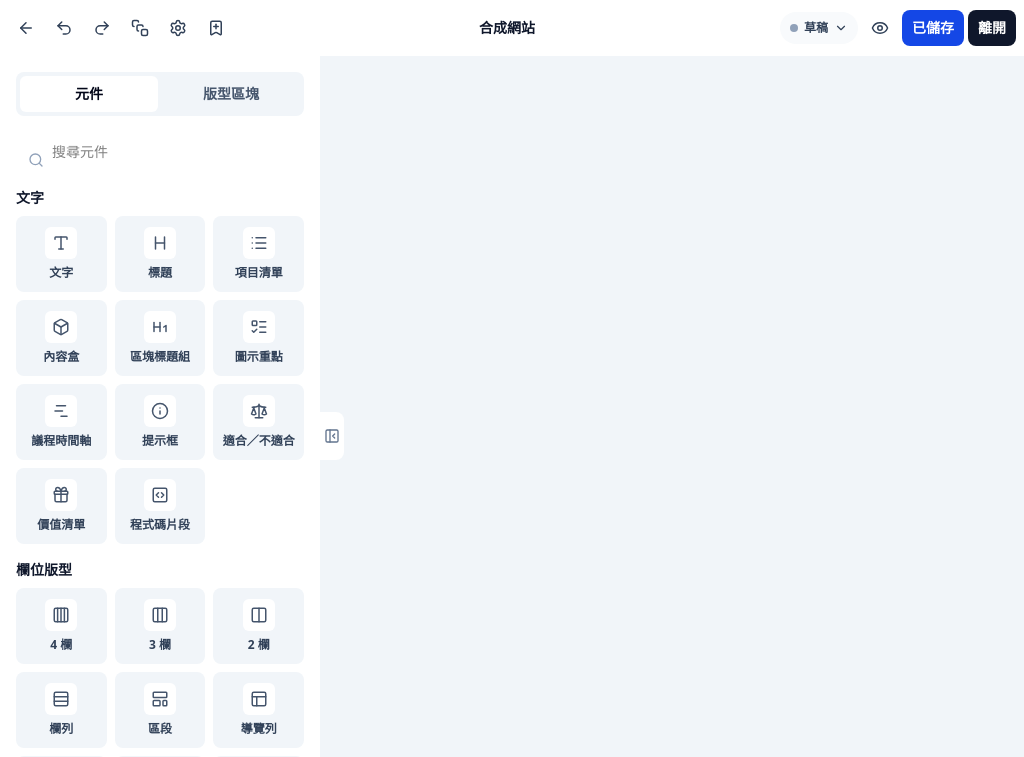
leaving with unsaved changes › closes on Escape and keeps Tab focus inside the dialog
Click the button "區段". click: (160, 710)
box: x1=115 y1=672 x2=205 y2=748
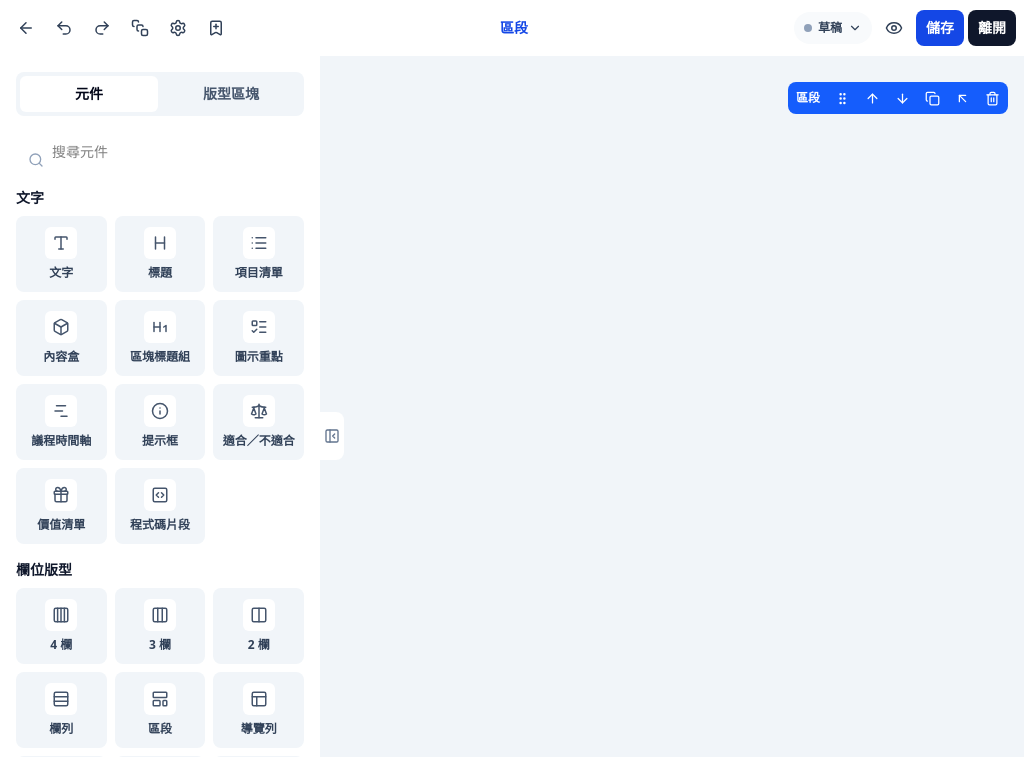
Click the button named "返回管理頁". click: (26, 28)
box: x1=8 y1=10 x2=44 y2=46
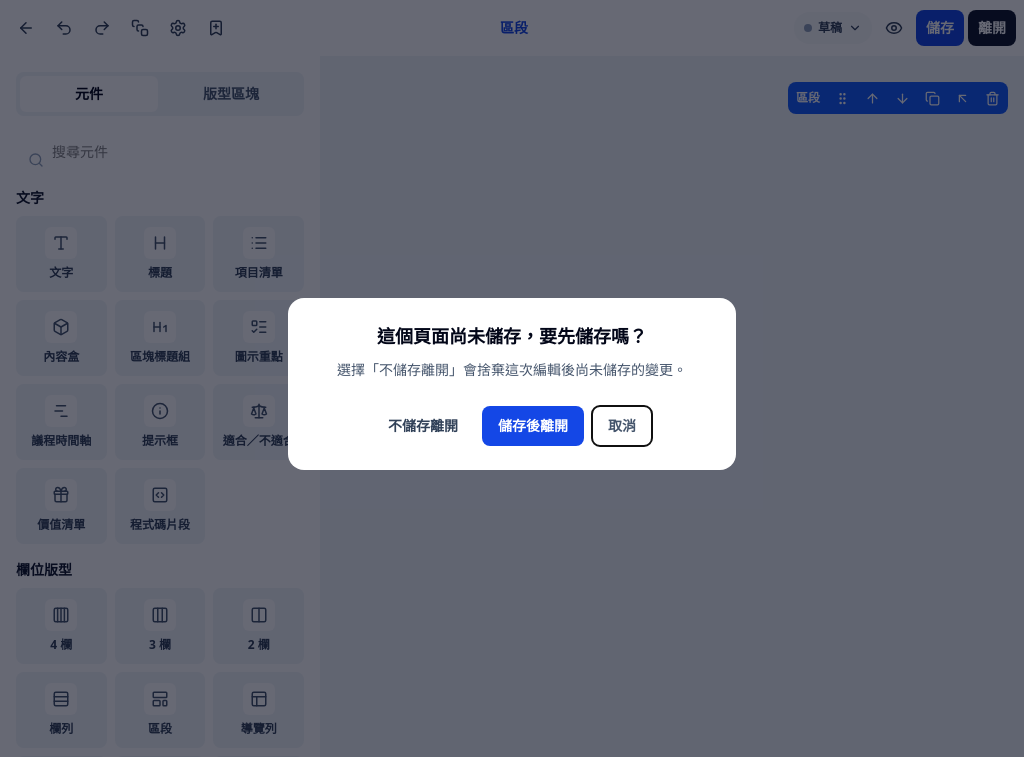
Press Tab in the button "取消", box x1=592 y1=406 x2=652 y2=446
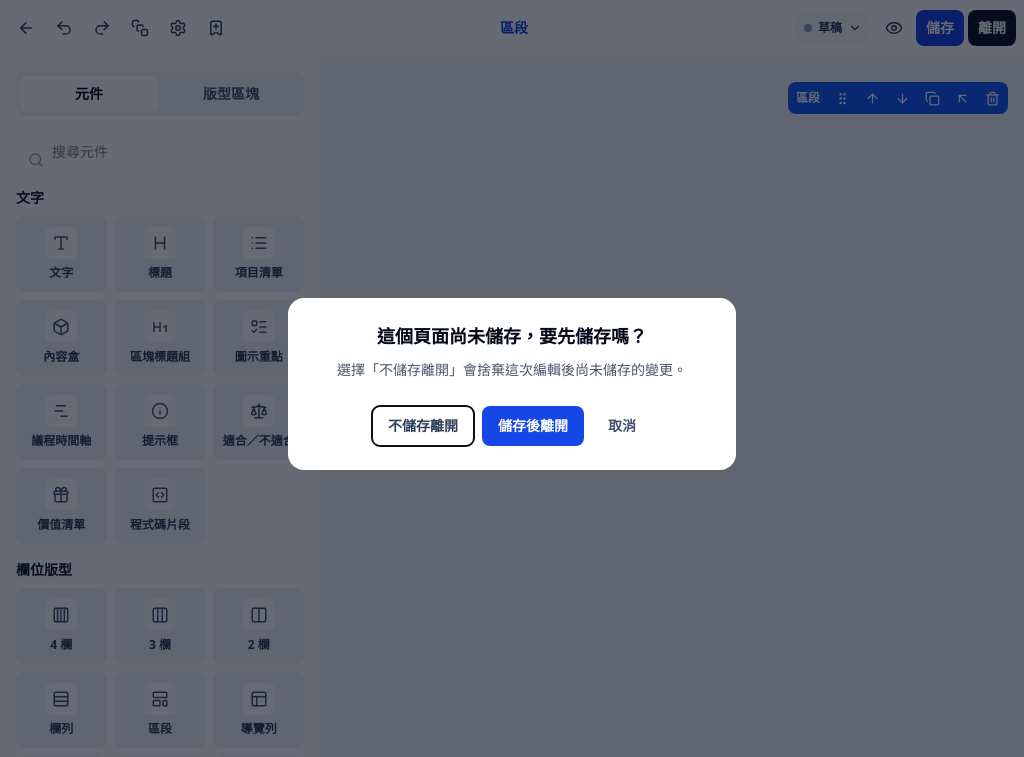
Press Tab in the button "不儲存離開", box x1=372 y1=406 x2=474 y2=446
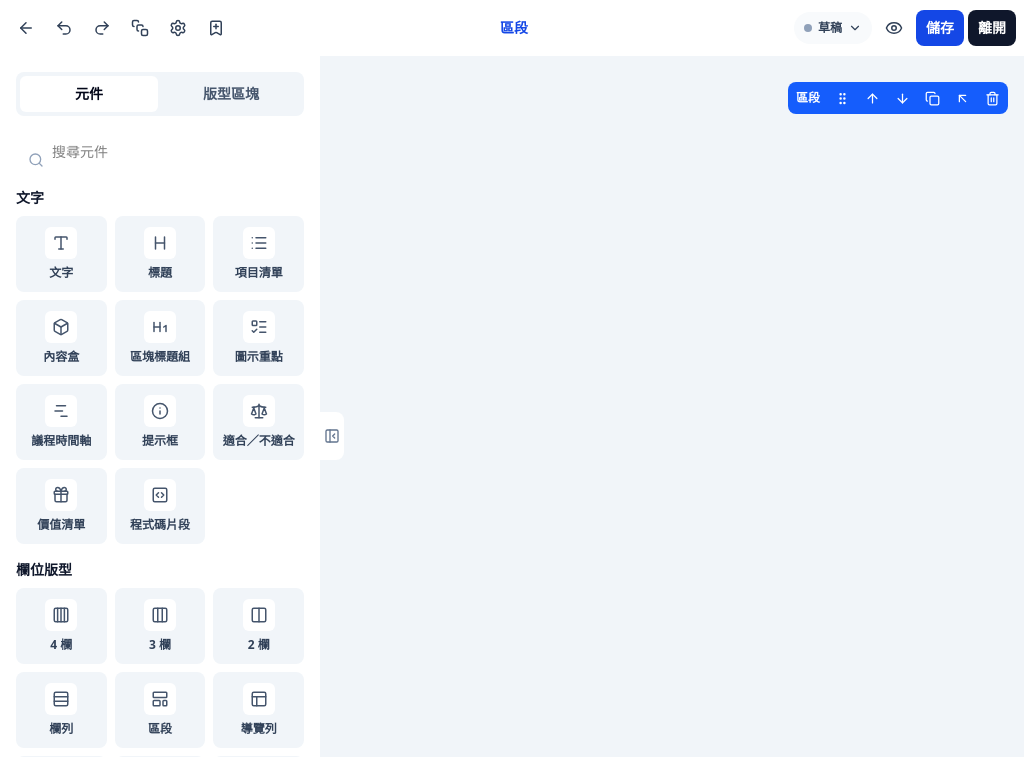
Expected: the dialog is gone
